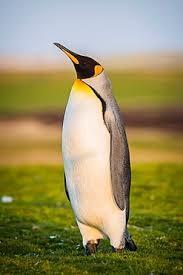king: (23, 29, 159, 264)
